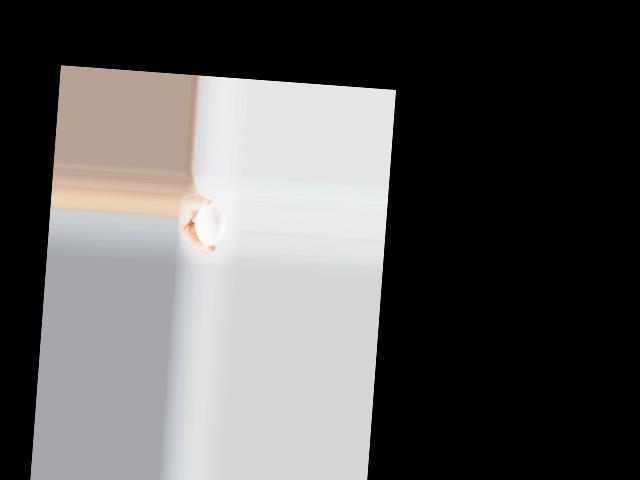egg: (193, 204, 227, 247)
